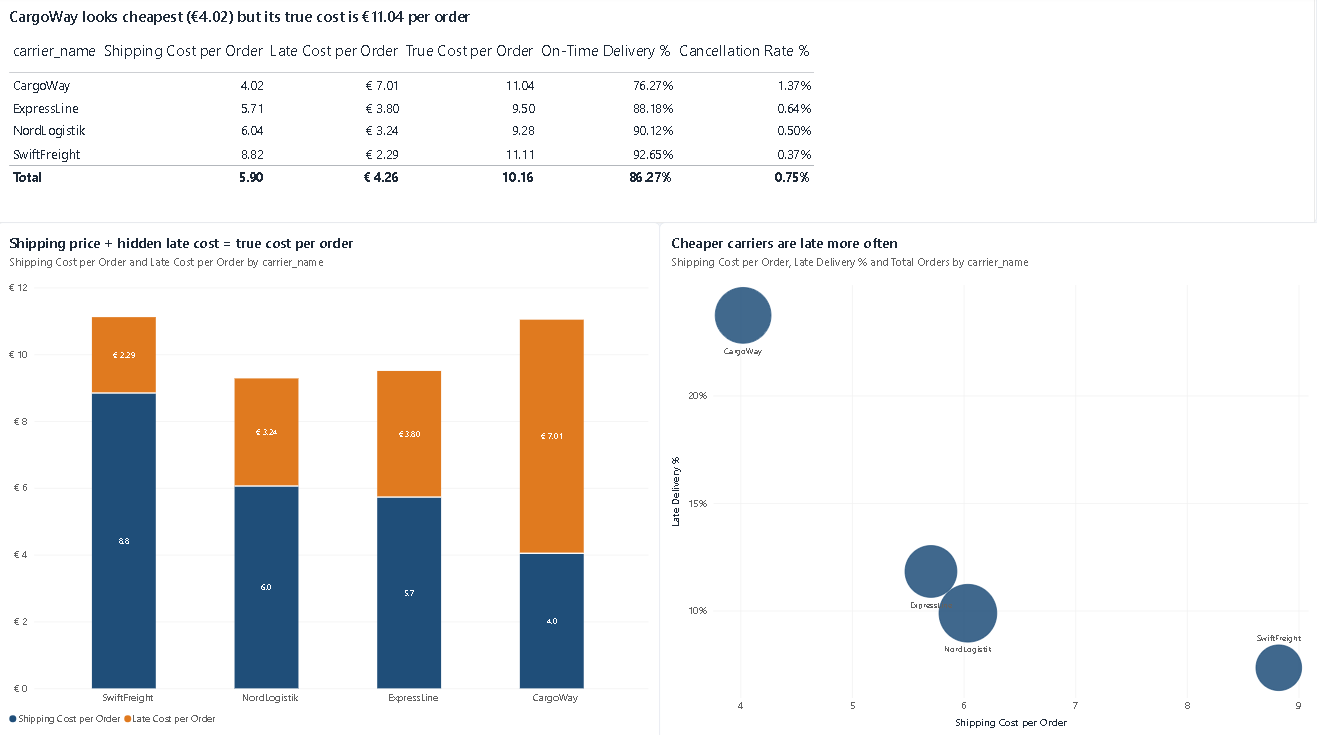

Layout of this report page (visuals, bound fields, positions):
{"tool":"powerbi","page":{"name":"Cost","canvas":[1920,1080],"ordinal":3},"visuals":[{"type":"tableEx","title":"CargoWay looks cheapest (€4.02) but its true cost is €11.04 per order","fields":{"Values":["Carriers.carrier_name","_Measures.Shipping Cost per Order","_Measures.Late Cost per Order","_Measures.True Cost per Order","_Measures.On-Time Delivery %","_Measures.Cancellation Rate %"]},"box":[0,0,1910,330],"z":0},{"type":"columnChart","title":"Shipping price + hidden late cost = true cost per order","fields":{"Category":["Carriers.carrier_name"],"Y":["_Measures.Shipping Cost per Order","_Measures.Late Cost per Order"]},"box":[0,330,960,750],"z":1},{"type":"scatterChart","title":"Cheaper carriers are late more often","fields":{"Category":["Carriers.carrier_name"],"Size":["_Measures.Total Orders"],"X":["_Measures.Shipping Cost per Order"],"Y":["_Measures.Late Delivery %"]},"box":[960,330,960,750],"z":2}]}

Visuals, with their boxes in screenshot pixels (x1, y1, x2, y2), scaled from the page's 1920x1080 canvas onto the 1317x735 screenshot:
"CargoWay looks cheapest (€4.02) but its true cost is €11.04 per order" tableEx: [x1=0, y1=0, x2=1310, y2=225]
"Shipping price + hidden late cost = true cost per order" columnChart: [x1=0, y1=225, x2=658, y2=734]
"Cheaper carriers are late more often" scatterChart: [x1=658, y1=225, x2=1316, y2=734]
